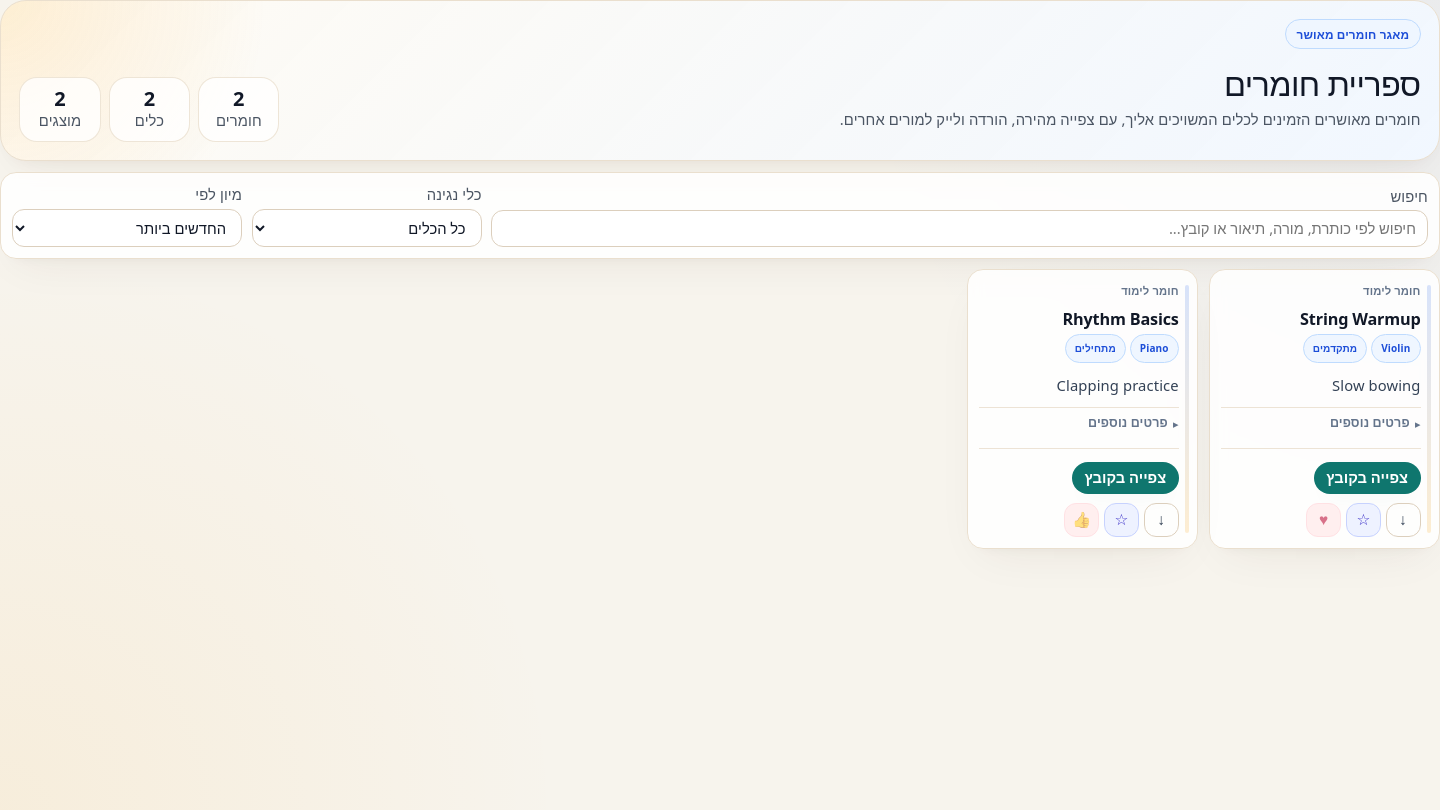
Test: TeacherLibraryPage › loads approved materials and filters by search and instrument
Expected: the heading "Rhythm Basics" is shown, [1062, 308, 1179, 330]
Expected: the heading "String Warmup" is shown, [1300, 308, 1421, 330]
Step 1. Type "rhythm" into the field labelled "חיפוש" → (960, 229), box [491, 210, 1428, 247]
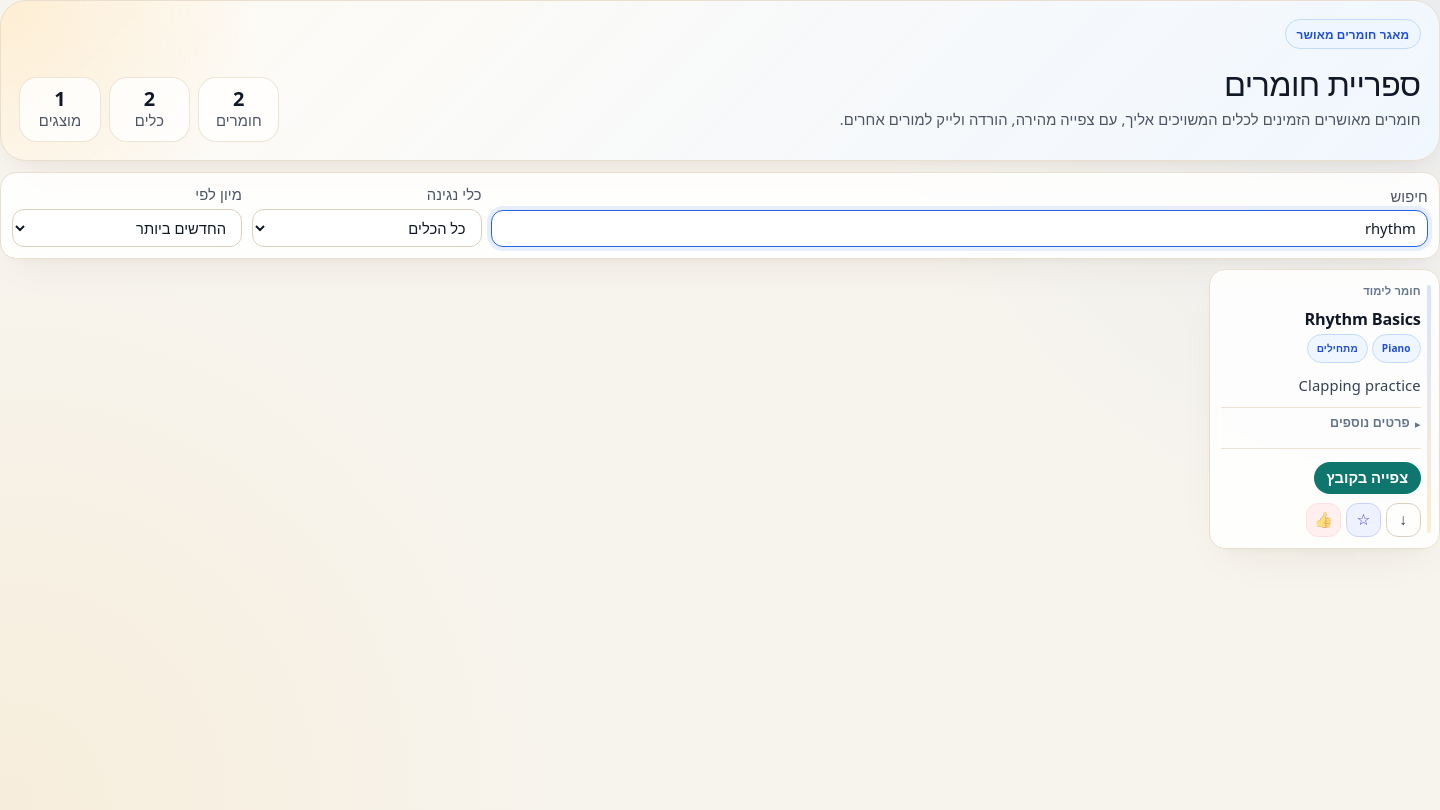
Expected: the heading "Rhythm Basics" is shown, [1304, 308, 1421, 330]
Now the heading "String Warmup" is gone
Step 2. Clear the field labelled "חיפוש" → (960, 229), box [491, 210, 1428, 247]
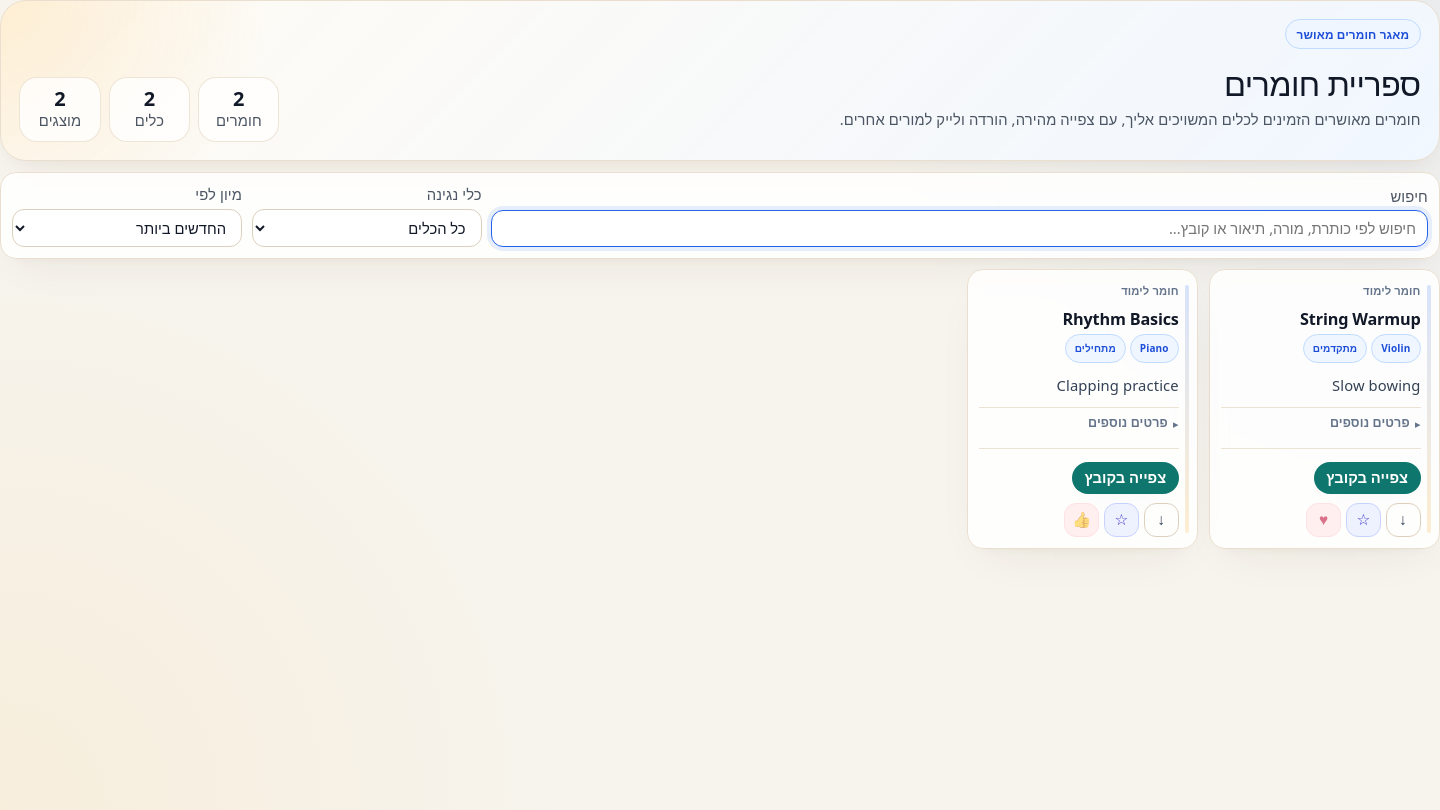
Step 3. Select "Violin" in the dropdown labelled "כלי נגינה" → (367, 228), box [252, 209, 482, 247]
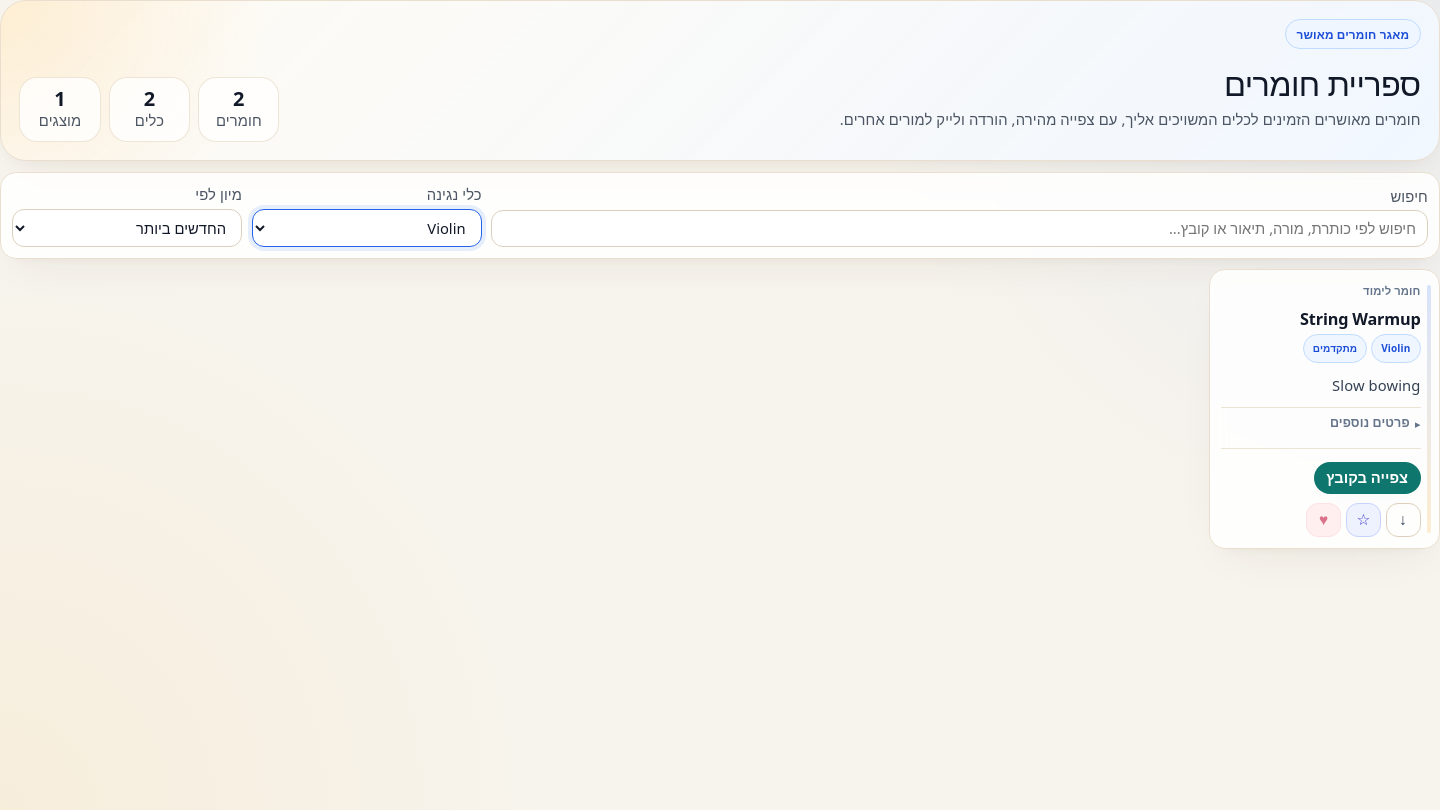
Now the heading "String Warmup" is shown, box [1300, 308, 1421, 330]
Now the heading "Rhythm Basics" is gone
